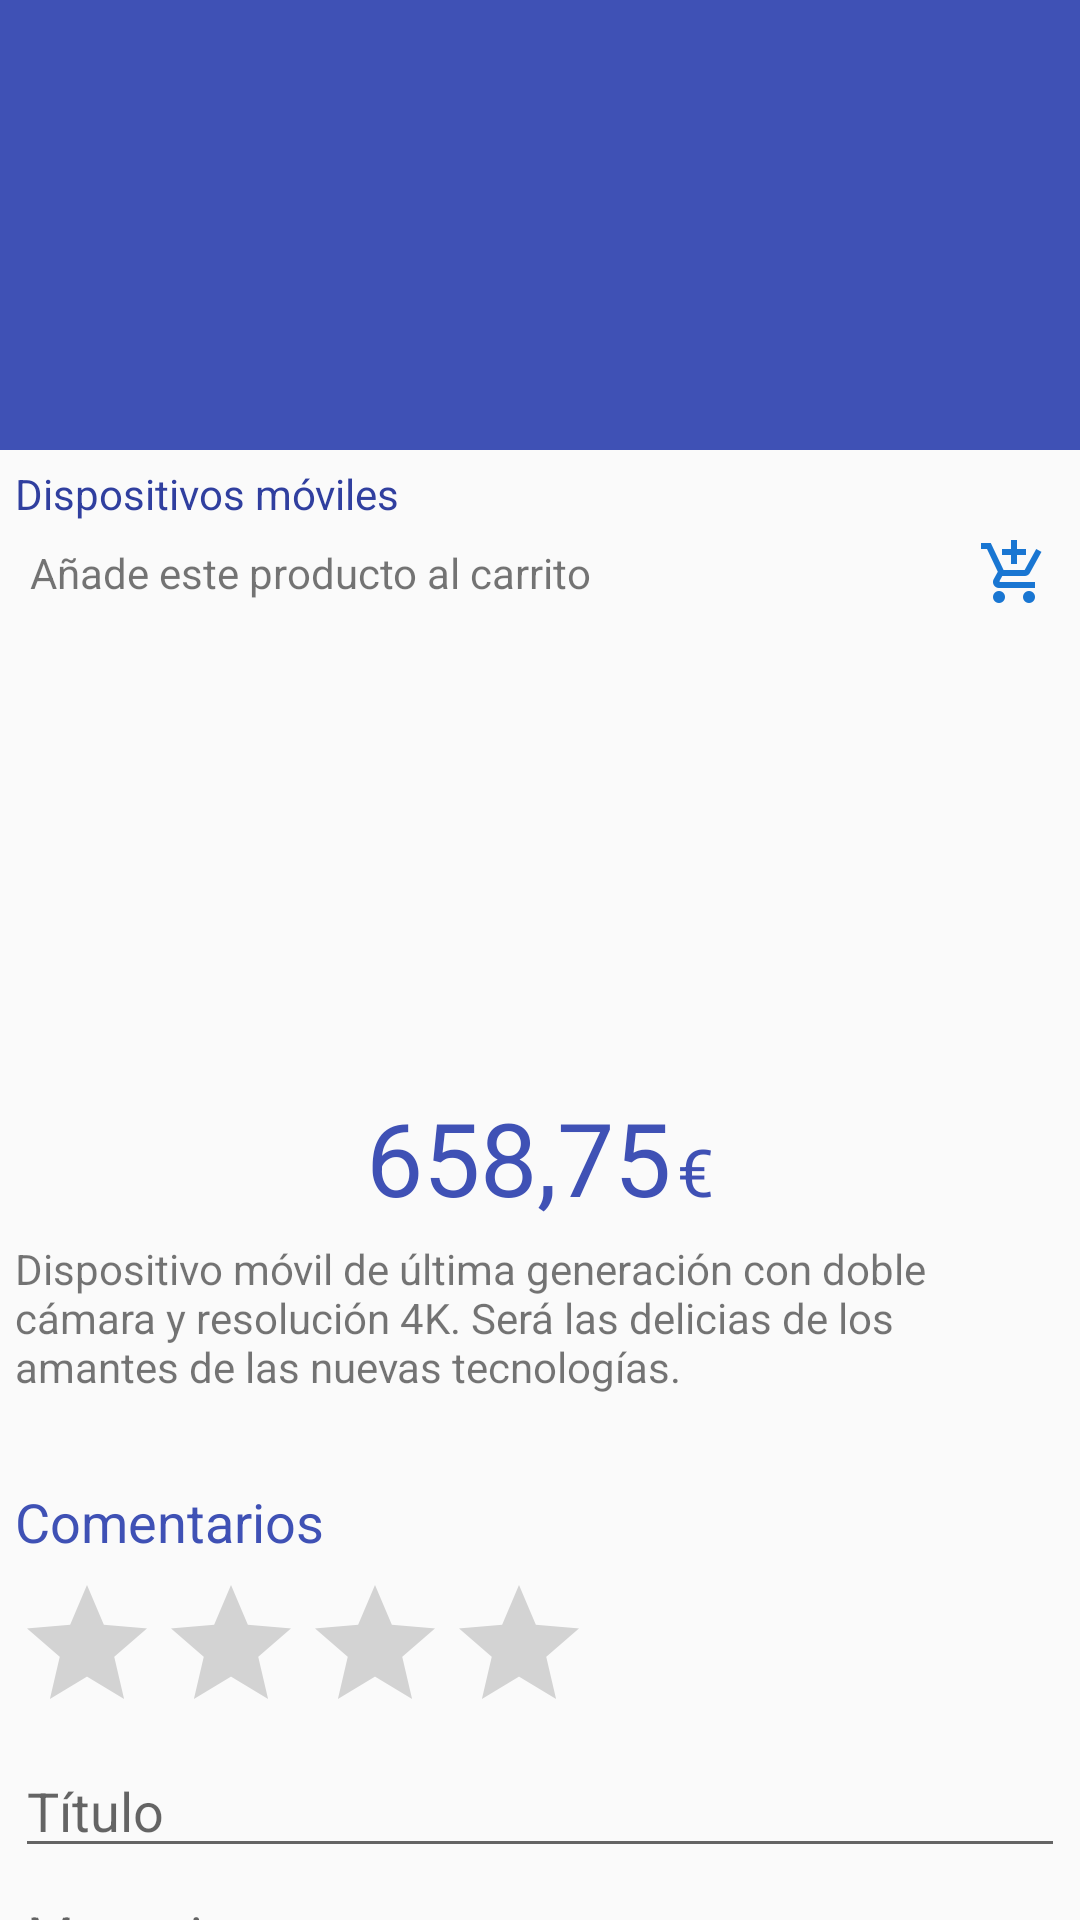

Screen size 1080px×1920px. Icon name, then its box in pixels as bbox(x1, y1, x2, y2):
shopping cart add: bbox(981, 540, 1042, 603)
